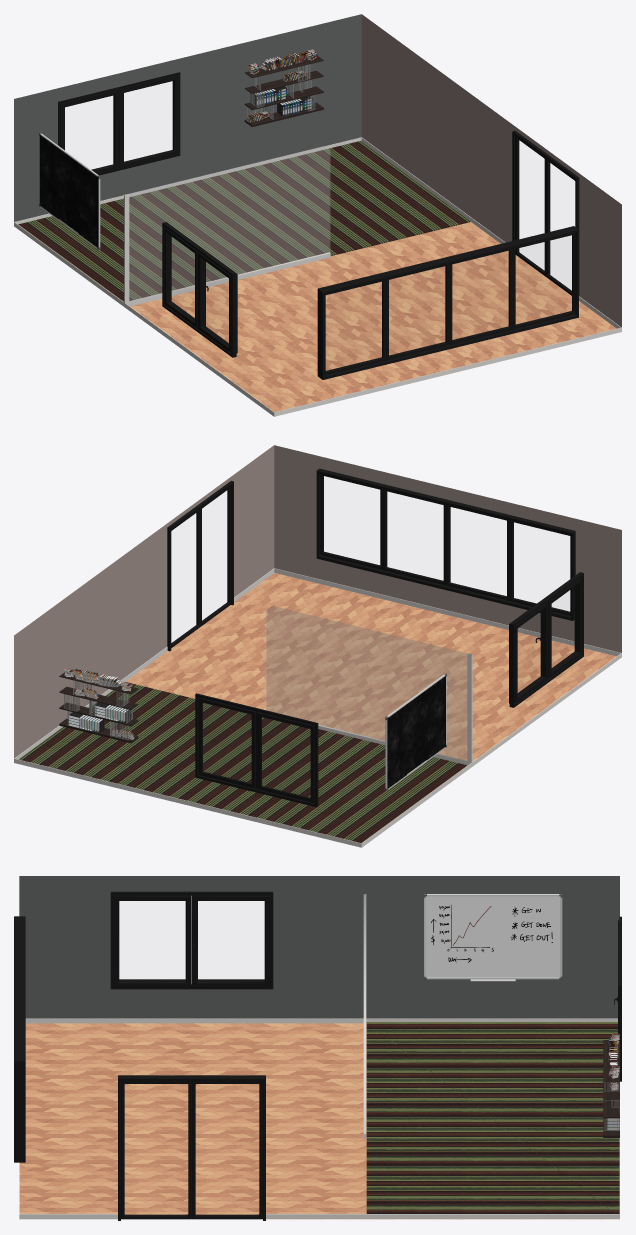
Rendered from it-office-space.glb.
3 renders of one model, top to bottom at view 1: azimuth 30°, elevation 25°; view 2: azimuth 150°, elevation 25°; view 3: azimuth 270°, elevation 25°, orthographic. The views are drawn at different scales.
Visible parts, largest first — view 1: floor, floor.001, front_wall, right_wall, partation.001, window2.001, White Board.001, Book shelf.001, window.003, window.002, sliding_door.001; view 2: floor, floor.001, right_wall, partation.001, back_wall, window2.001, White Board.001, window.002, Book shelf.001, window.003, sliding_door.001; view 3: floor, left_wall, floor.001, White Board.001, window.003, sliding_door.001, window2.001, Book shelf.001, partation.001, window.002.
Part boxes in pixels (x1,y1,x2,y2): floor: (14,137,621,416); floor.001: (18,141,470,301); front_wall: (14,14,361,221); right_wall: (361,14,621,327); partation.001: (124,146,330,306); window2.001: (317,226,578,379); White Board.001: (39,132,100,249); Book shelf.001: (244,49,323,126); window.003: (162,222,237,357); window.002: (58,72,180,175); sliding_door.001: (512,130,579,295); floor: (14,568,621,847); floor.001: (19,682,467,843); right_wall: (14,445,274,758); partation.001: (266,606,472,765); back_wall: (274,445,621,652); window2.001: (316,468,575,620); White Board.001: (385,673,446,790); window.002: (195,693,318,807); Book shelf.001: (59,668,138,742); window.003: (509,572,583,707); sliding_door.001: (167,480,233,651); floor: (19,1018,619,1219); left_wall: (19,876,619,1018); floor.001: (366,1022,619,1213); White Board.001: (424,894,562,981); window.003: (110,891,273,989); sliding_door.001: (118,1075,265,1220); window2.001: (14,916,25,1162); Book shelf.001: (603,1033,619,1137); partation.001: (363,894,366,1138); window.002: (614,916,621,1081).
Bounding box in the file's own units: 8.57 × 2.96 × 11.08.
Materials: 29 (17 with a texture image).
